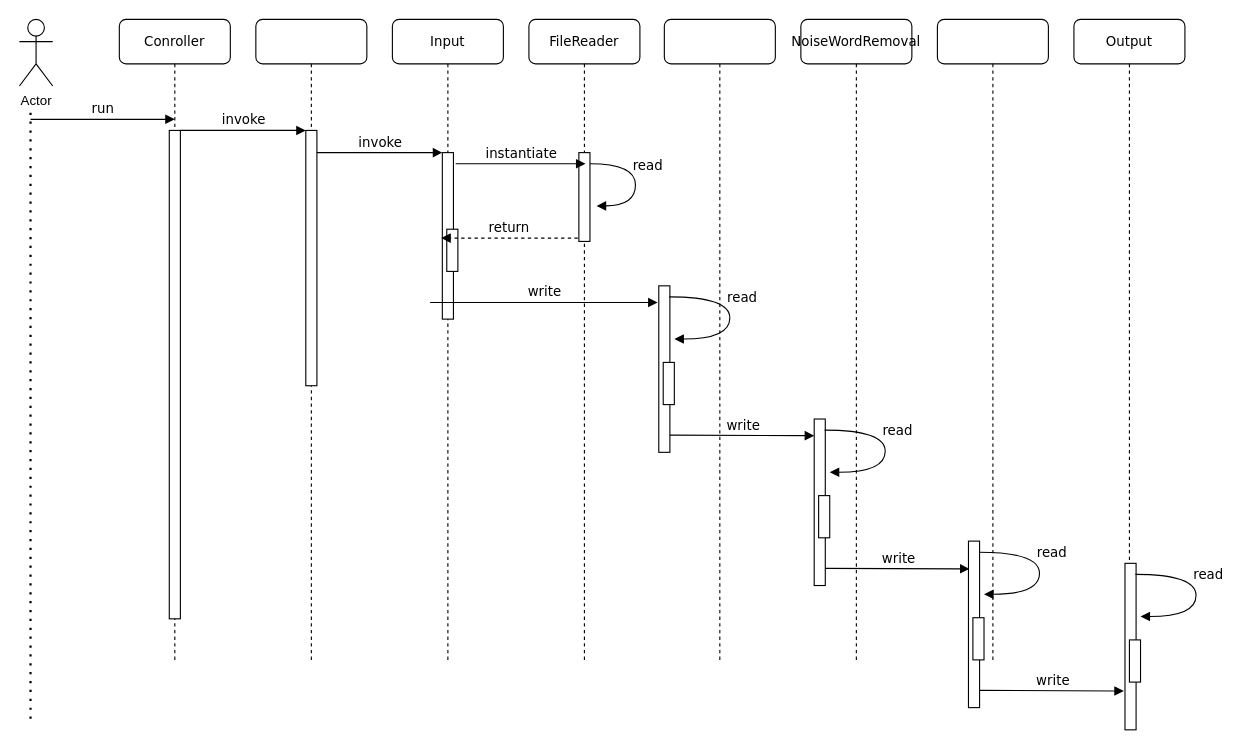
The diagram is 1242 pixels wide and 749 high, and some of its shapes have lost their labels. Each missing label, with the box of its shape:
Alphabetizer: (936, 18, 1048, 663)
CurcularShifter: (663, 18, 775, 663)
Pipeline: (255, 18, 367, 663)
